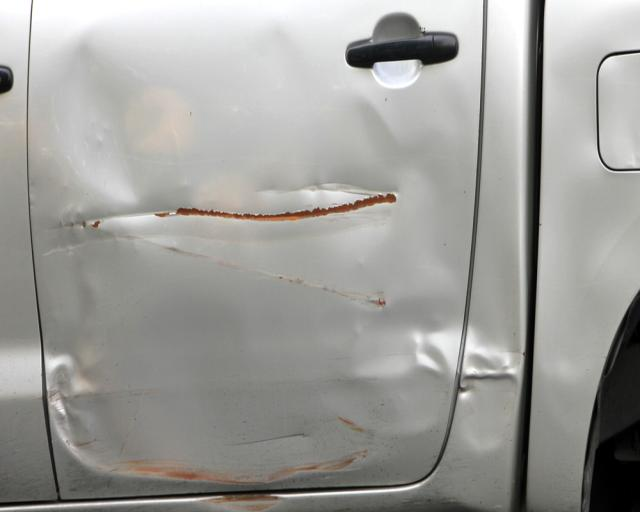dent: (44, 14, 444, 480), (459, 269, 521, 450)
scratch: (153, 190, 400, 224)
